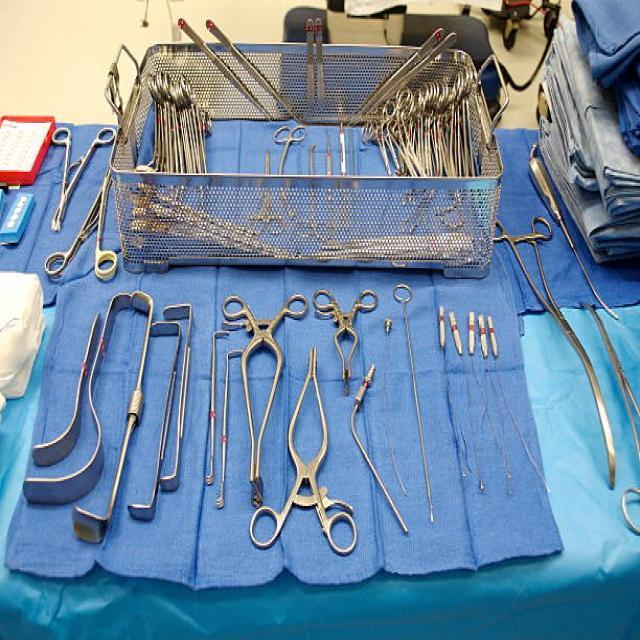tools_table: (0, 4, 640, 610)
